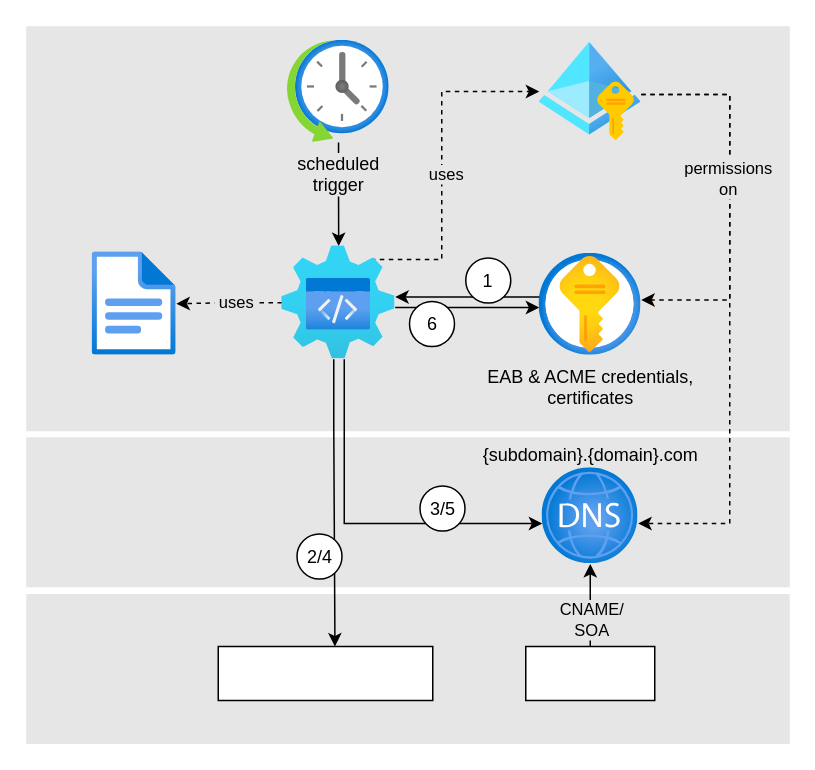
Image size: 815x770. Some labels were removed from this diagram. The shapes that lost their labels are listed below. From the top down, each one's centre as x and y in pixels, then its label:
At (589,90): "Managed Identity".
At (134,303): "config".
At (325,672): "Corporate ACME service (Atos / digiCert)".
At (589,672): "Corporate DNS".
